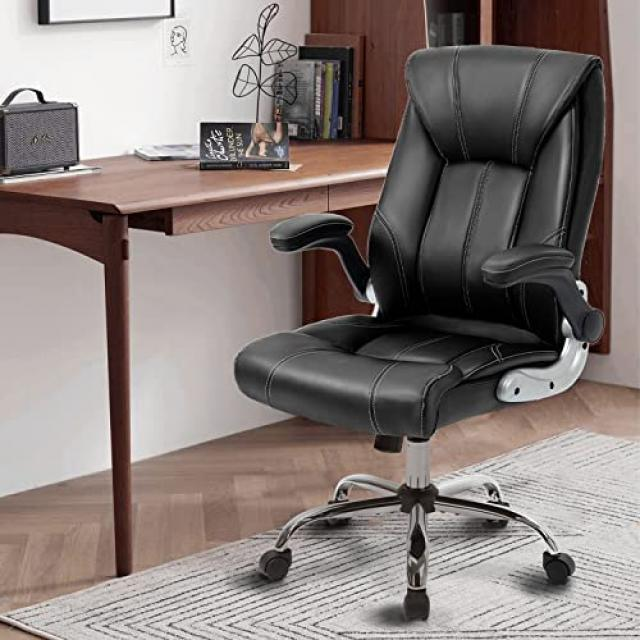chair: (241, 29, 640, 639)
